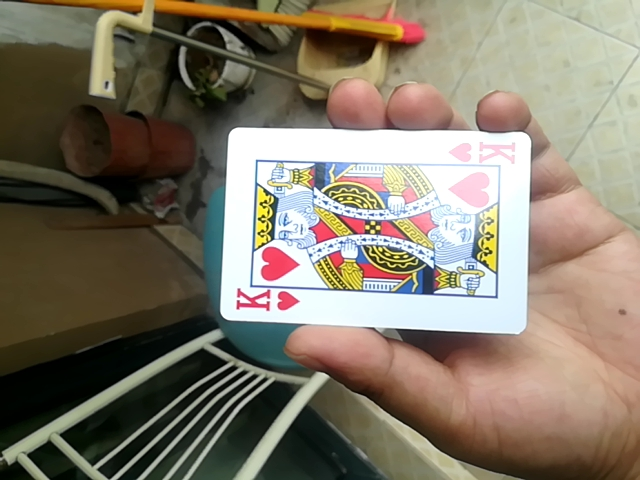hx k: (218, 128, 526, 330)
